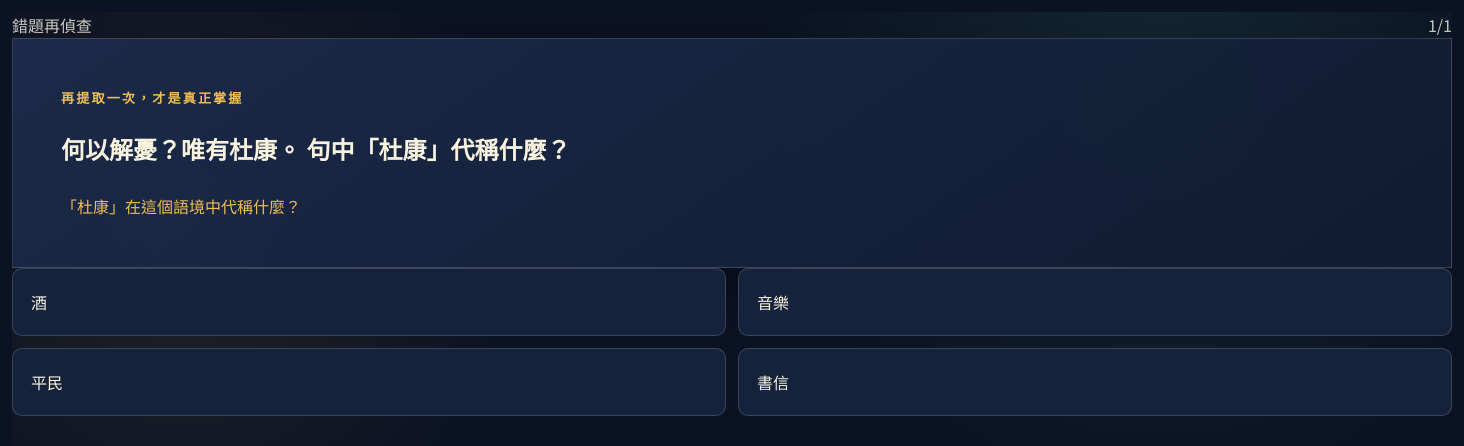
Scenario: ReviewList › 學生可重作錯題，答對後從復習清單移除
Expected: the heading "何以解憂？唯有杜康。 句中「杜康」代稱什麼？" is shown, [61, 131, 570, 166]
Click the button "酒" at (39, 302), box [12, 268, 726, 336]
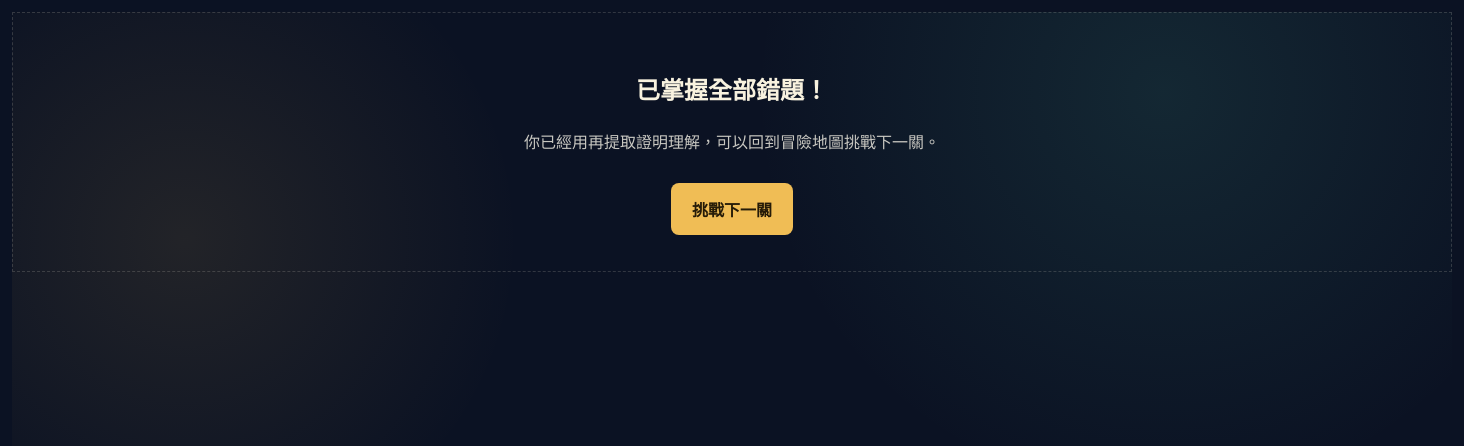
Expected: the message shows "已掌握", [12, 12, 1452, 272]
